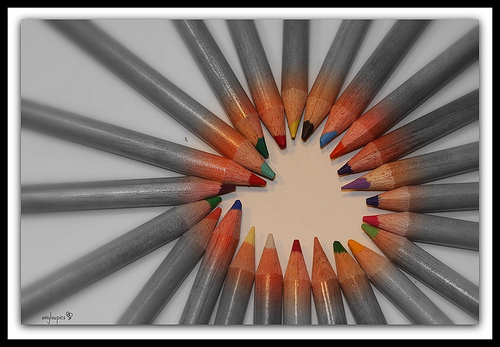pen_tip: (332, 163, 399, 197), (211, 158, 266, 192)
